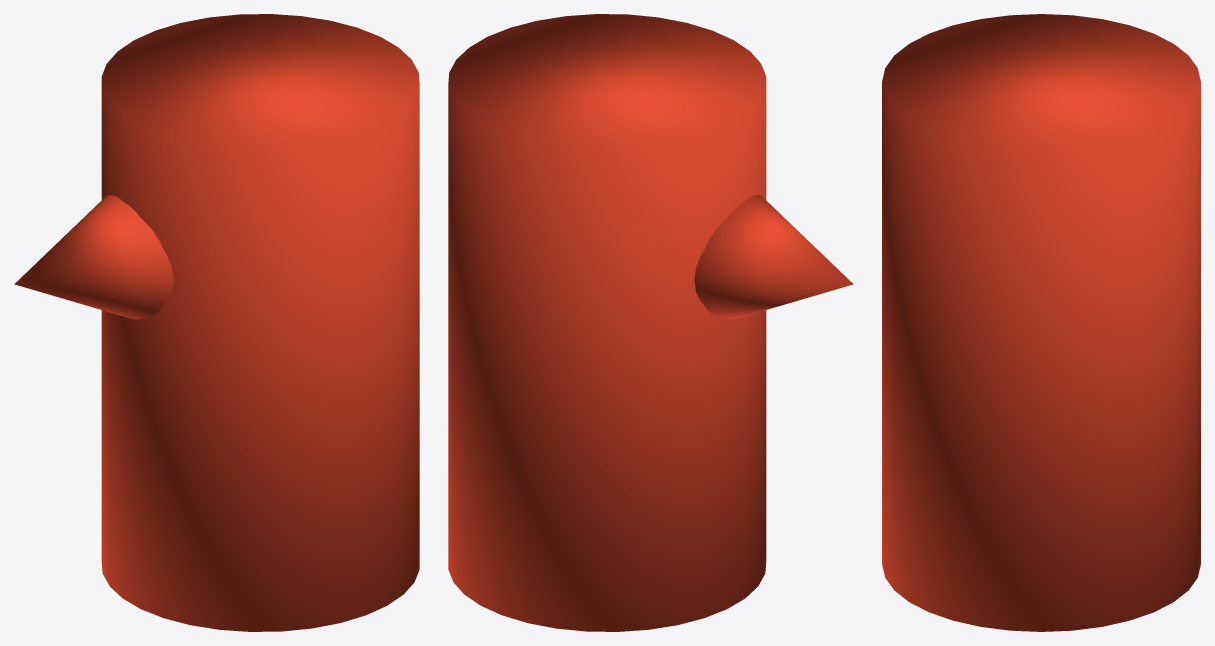
Rendered from EnemyStandIn.fbx.
3 renders of one model, left to right at view 1: azimuth 30°, elevation 25°; view 2: azimuth 150°, elevation 25°; view 3: azimuth 270°, elevation 25°, orthographic.
Visible parts, largest first — view 1: Cylinder.003; view 2: Cylinder.003; view 3: Cylinder.003.
Part boxes in pixels (bbox=[...]): Cylinder.003: bbox=[14, 14, 419, 631]; Cylinder.003: bbox=[448, 14, 853, 631]; Cylinder.003: bbox=[882, 14, 1200, 631].
Bounding box in the file's own units: 39.53 × 47.5 × 28.39.
